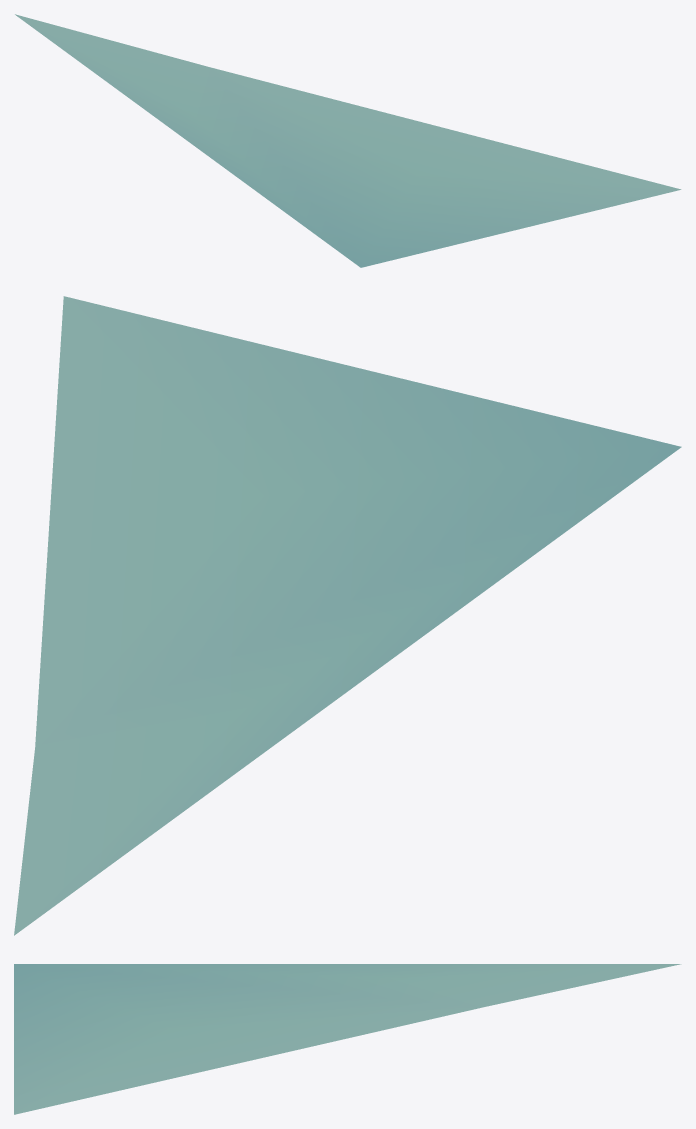
Rendered from water-16-9.glb.
The picture shows the model from 3 angles, top to bottom: view 1: azimuth 30°, elevation 25°; view 2: azimuth 150°, elevation 25°; view 3: azimuth 270°, elevation 25°; orthographic projection. The views are drawn at different scales.
Size of the model in its own units: 1.71 by 0 by 3.2.
